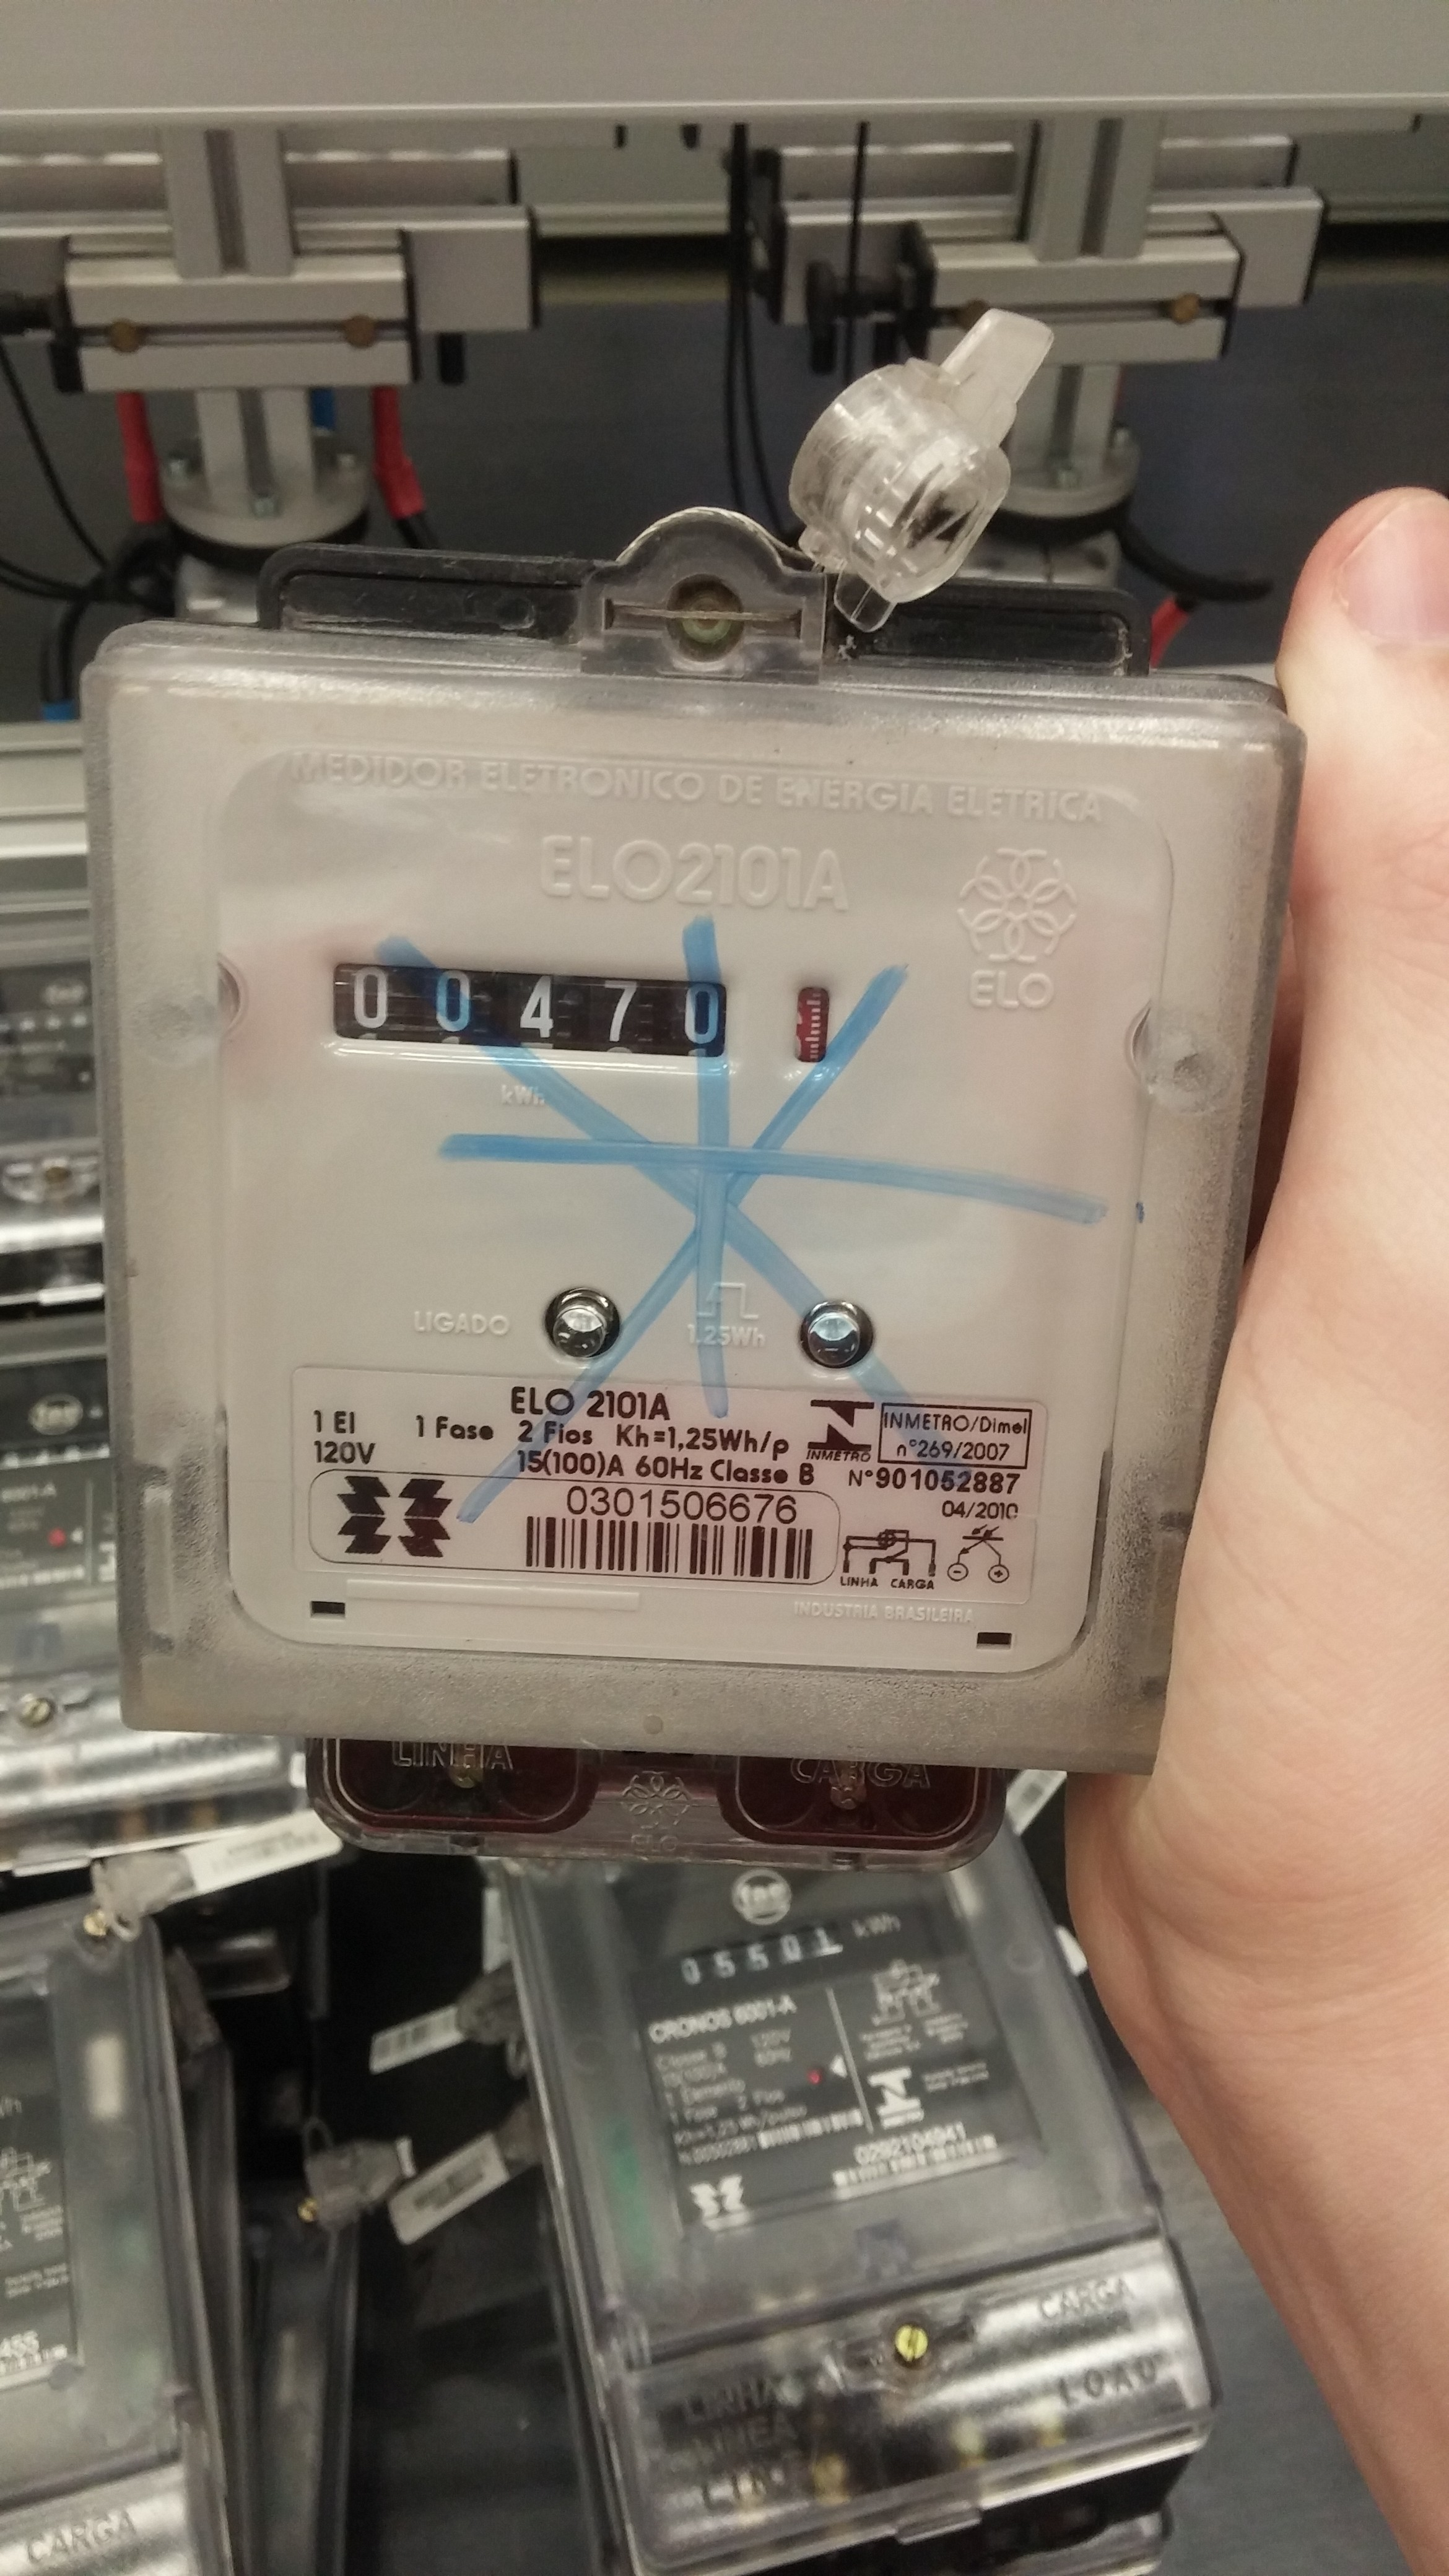counter2: (320, 945, 754, 1077)
